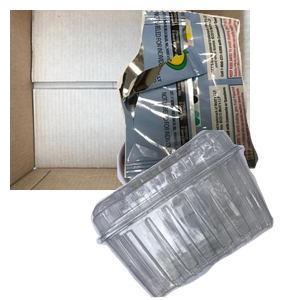cardboard: (10, 10, 250, 190)
glass: (115, 120, 300, 300)
plastic: (88, 130, 300, 300)
trash: (114, 10, 300, 180)
